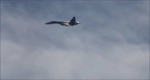maybay_muctieu: (46, 18, 80, 29)
